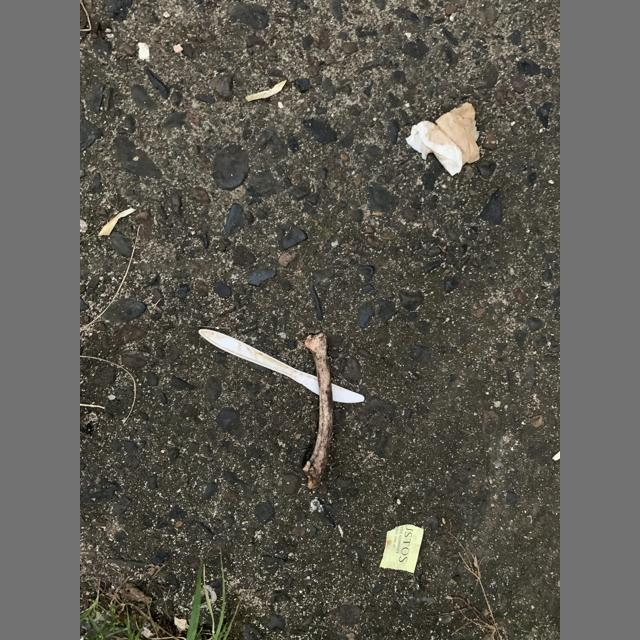litter: (198, 329, 365, 403), (405, 102, 480, 176), (380, 523, 424, 572)
